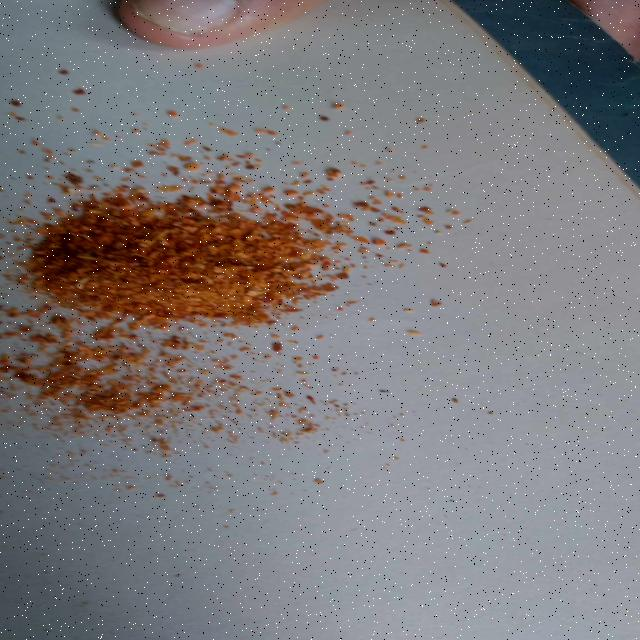Chili Pepper: (23, 147, 452, 388)
